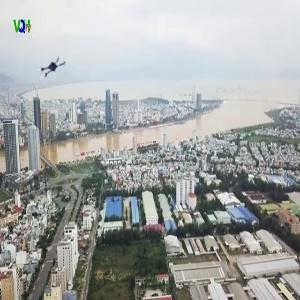drone: (37, 54, 73, 90)
